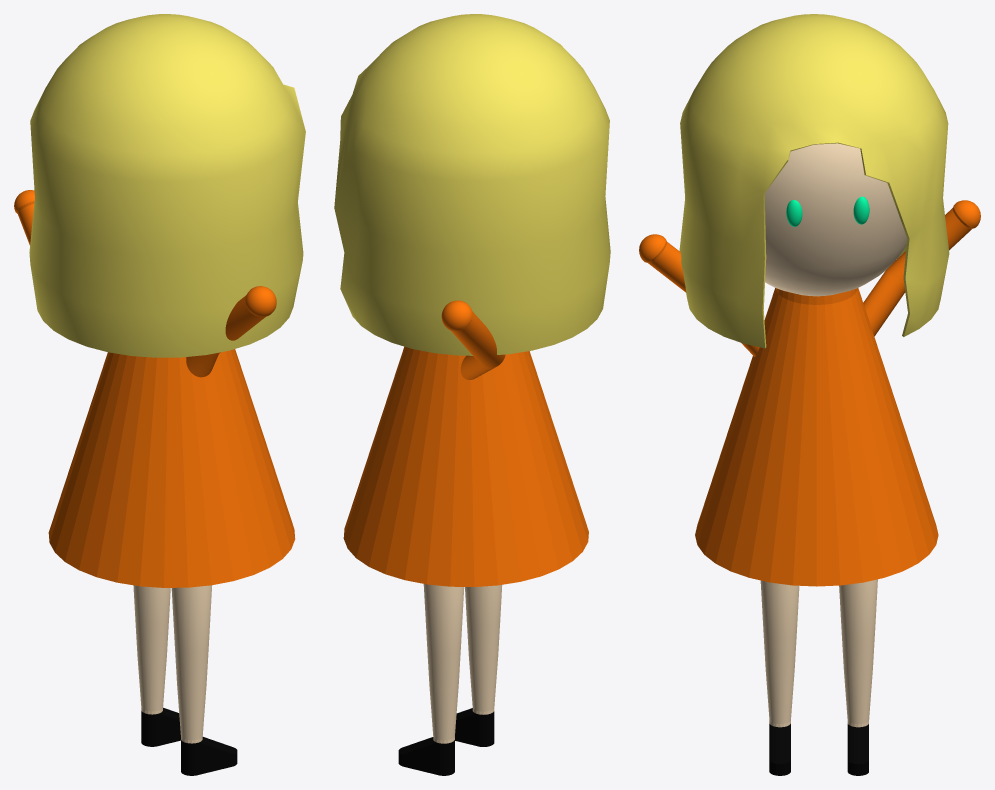
File: Girl2_Goal.fbx
The picture shows the model from 3 angles, left to right: view 1: azimuth 30°, elevation 25°; view 2: azimuth 150°, elevation 25°; view 3: azimuth 270°, elevation 25°; orthographic projection.
Parts seen in each view (by area): view 1: Sphere046, Sphere041, Cylinder011, Sphere044, Sphere045, Sphere043; view 2: Sphere046, Sphere041, Sphere044, Cylinder011, Sphere043; view 3: Sphere041, Sphere046, Sphere044, Cylinder011, Sphere043, Sphere045.
Boxes of the visible parts, x1=… form: Sphere046: x1=29, y1=14, x2=305, y2=357; Sphere041: x1=48, y1=349, x2=295, y2=587; Cylinder011: x1=171, y1=585, x2=237, y2=775; Sphere044: x1=133, y1=585, x2=180, y2=746; Sphere045: x1=186, y1=286, x2=276, y2=377; Sphere043: x1=14, y1=190, x2=34, y2=244; Sphere046: x1=334, y1=14, x2=610, y2=355; Sphere041: x1=343, y1=346, x2=588, y2=586; Sphere044: x1=398, y1=584, x2=464, y2=775; Cylinder011: x1=455, y1=585, x2=502, y2=746; Sphere043: x1=441, y1=300, x2=505, y2=379; Sphere041: x1=695, y1=143, x2=938, y2=586; Sphere046: x1=679, y1=14, x2=949, y2=348; Sphere044: x1=839, y1=579, x2=877, y2=775; Cylinder011: x1=760, y1=580, x2=799, y2=775; Sphere043: x1=863, y1=200, x2=980, y2=336; Sphere045: x1=639, y1=234, x2=759, y2=356.
Size of the model in its own units: 107 by 321 by 137.
1 material, 1 textured.
